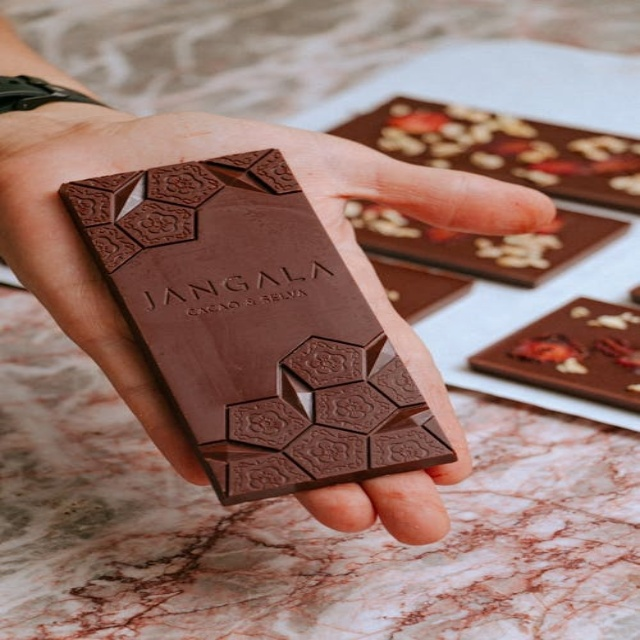Sin_guantes: (0, 0, 543, 543)
